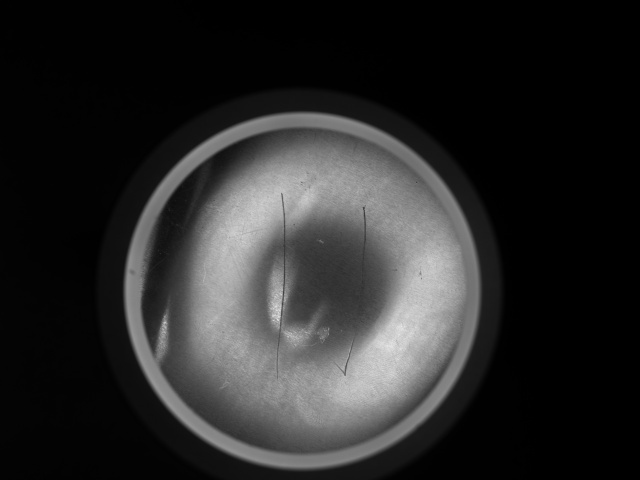ca_shang: (323, 205, 369, 377), (274, 190, 290, 378)
